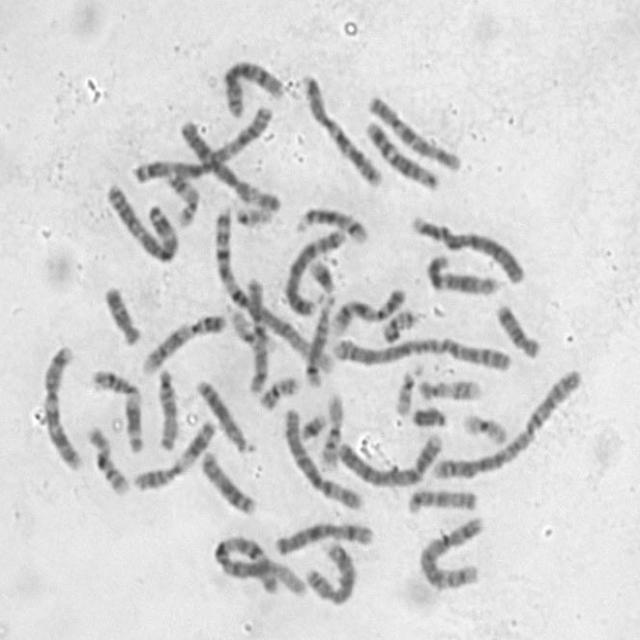A1: (208, 199, 337, 380), (208, 527, 310, 598)
A2: (426, 361, 586, 483), (325, 327, 515, 372)
A3: (128, 98, 276, 186), (100, 174, 182, 264)
B4: (405, 207, 528, 286), (332, 424, 446, 490)
B5: (277, 220, 348, 318), (414, 508, 487, 592)
C10: (362, 85, 465, 174), (242, 271, 272, 396)
C11: (126, 412, 220, 493), (86, 360, 147, 455)
C12: (360, 111, 442, 192), (422, 247, 504, 296)
C6: (175, 112, 282, 213), (278, 401, 366, 512)
C7: (296, 67, 385, 188), (37, 337, 84, 472)
C8: (218, 50, 287, 120), (300, 532, 360, 607)
C9: (136, 306, 230, 376), (325, 280, 409, 336)
D13: (190, 371, 256, 456), (195, 444, 259, 517)
D14: (299, 284, 337, 389), (290, 198, 371, 244)
D15: (401, 481, 481, 515), (152, 361, 180, 452)
E16: (81, 418, 132, 498), (313, 385, 346, 472)
E17: (162, 166, 202, 228), (412, 371, 484, 403)
E18: (490, 295, 544, 360), (99, 278, 144, 347)
F19: (220, 300, 276, 351), (458, 404, 512, 447)
F20: (253, 368, 303, 412), (377, 300, 421, 344)
G21: (302, 250, 338, 296), (295, 405, 330, 442)
G22: (390, 359, 422, 416), (230, 197, 277, 227)
X: (268, 514, 377, 556)
Y: (406, 399, 450, 429)
